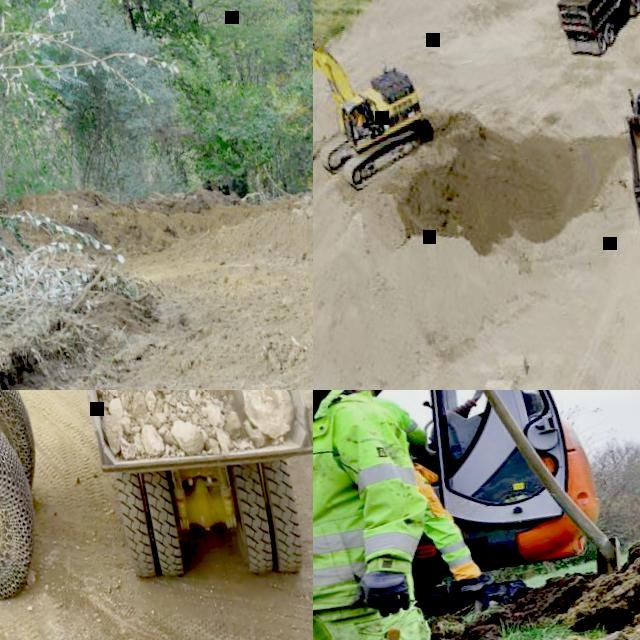Person: (313, 390, 492, 640), (400, 440, 497, 608), (328, 390, 433, 470), (351, 106, 365, 130)
Safety Vest: (313, 390, 440, 620), (313, 433, 462, 610), (330, 390, 416, 466), (354, 113, 366, 128)
machinery: (313, 390, 635, 640), (44, 390, 313, 611), (0, 390, 221, 640), (313, 0, 442, 207), (541, 0, 640, 63), (607, 77, 640, 256)
